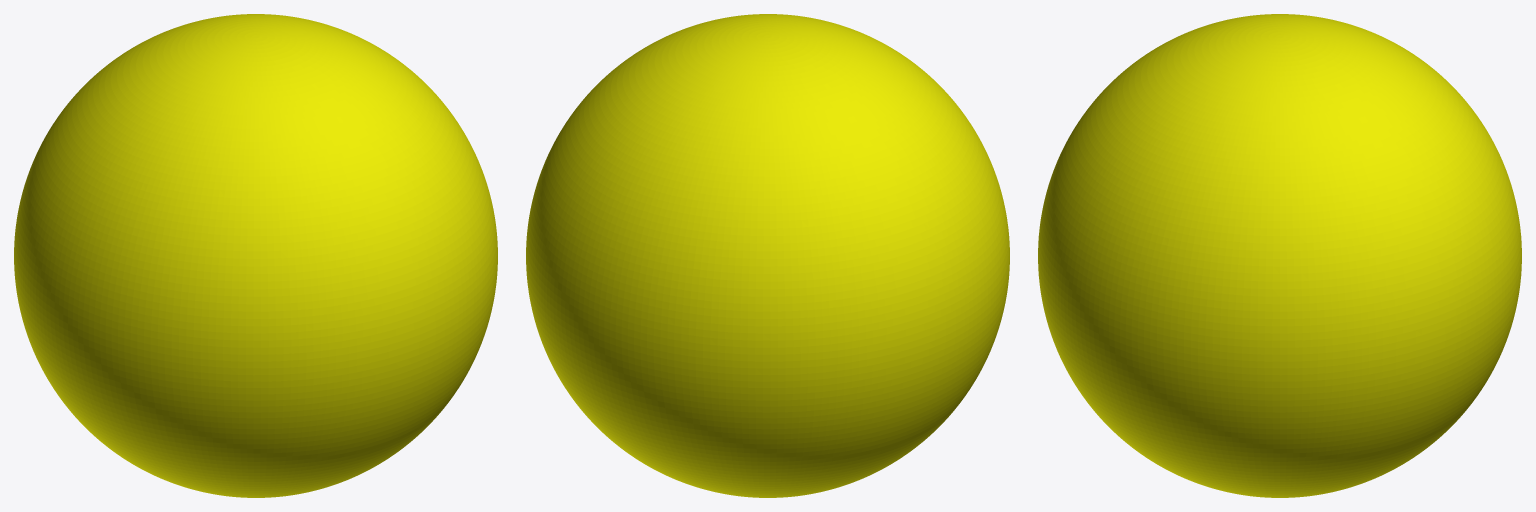
File: sphereYellow.dae
3 views of the same model, side by side, from view 1: azimuth 30°, elevation 25°; view 2: azimuth 150°, elevation 25°; view 3: azimuth 270°, elevation 25° (orthographic).
Parts seen in each view (by area): view 1: Sphere; view 2: Sphere; view 3: Sphere.
Boxes of the visible parts, x1,y1,x2,y2 form: Sphere: (14, 14, 497, 497); Sphere: (526, 14, 1009, 497); Sphere: (1038, 14, 1521, 497).
Size of the model in its own units: 0.0635 by 0.0635 by 0.0635.
